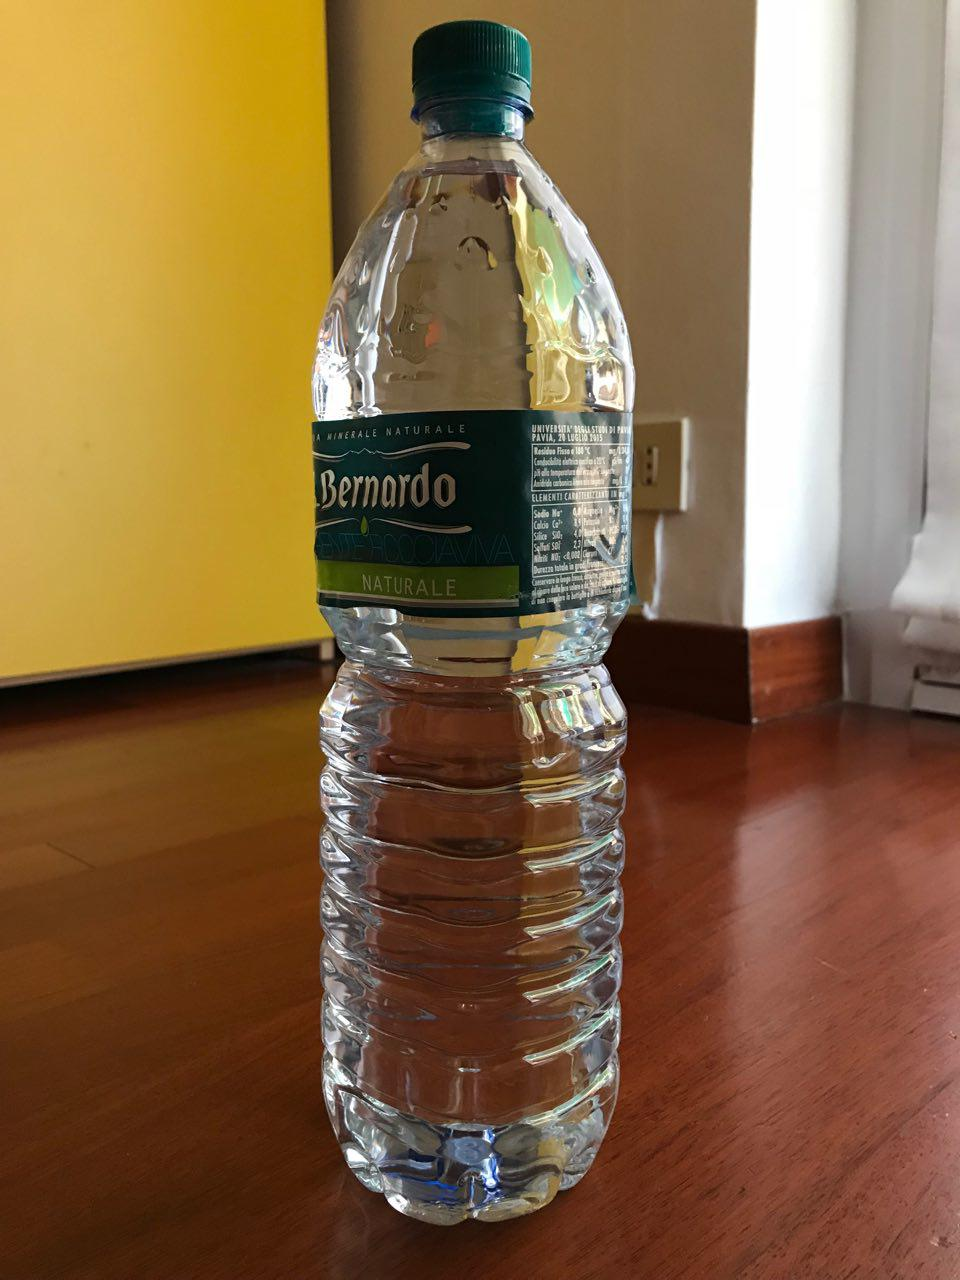san_bernardo: (308, 19, 639, 1229)
